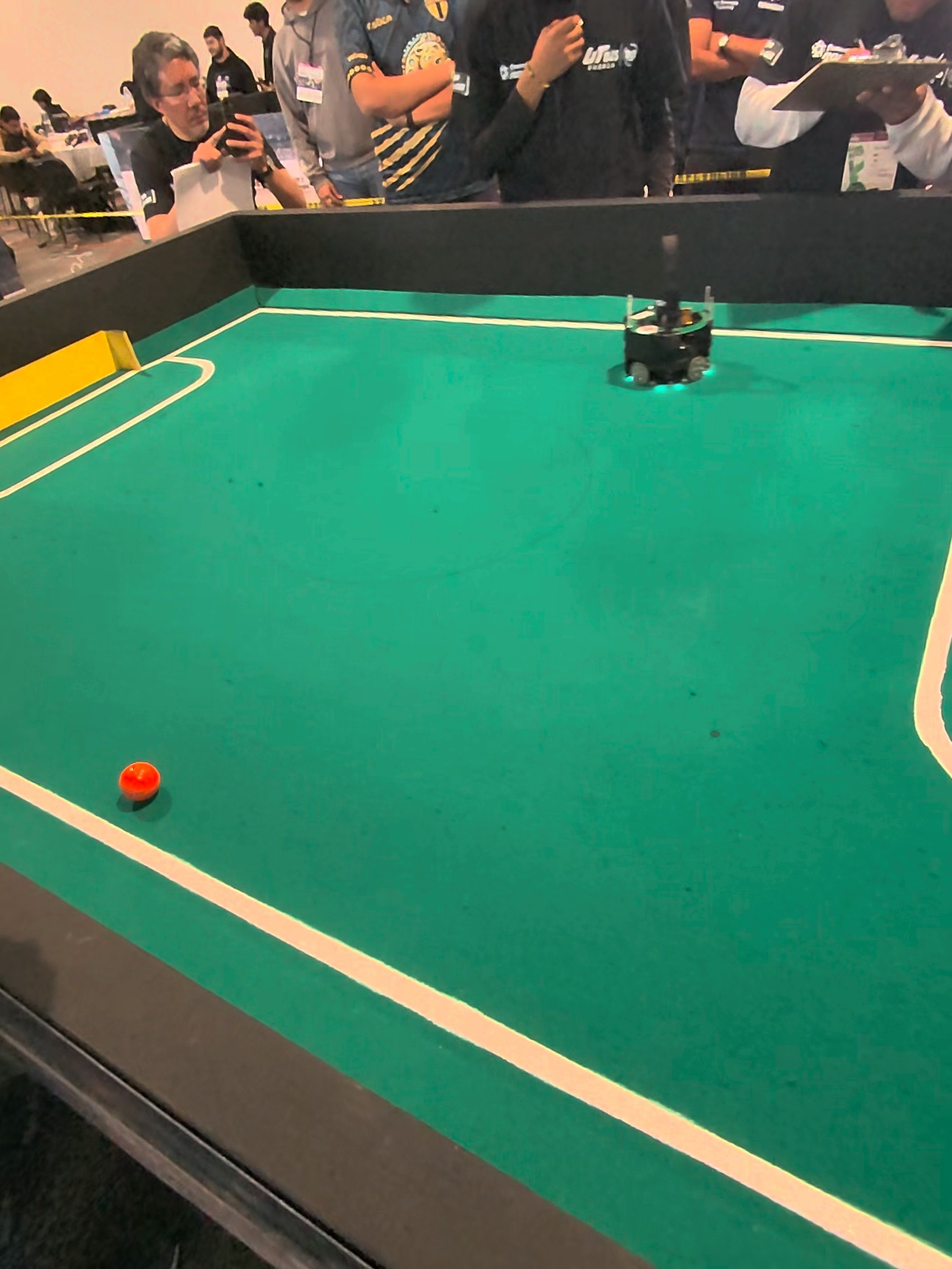Robot: (601, 225, 720, 400)
pelota: (120, 760, 164, 808)
